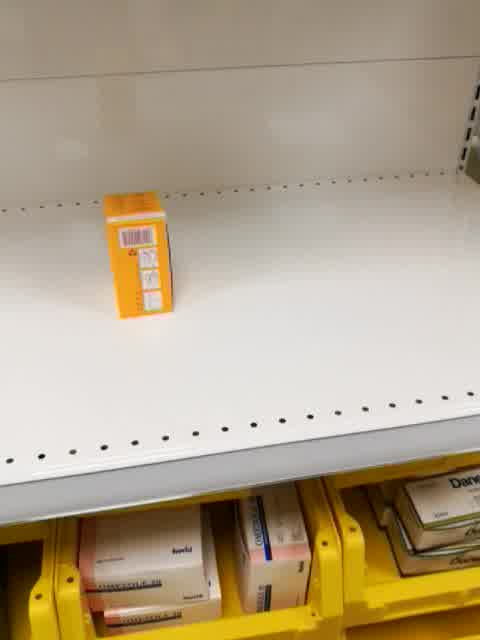jasminetea: (102, 190, 175, 320)
